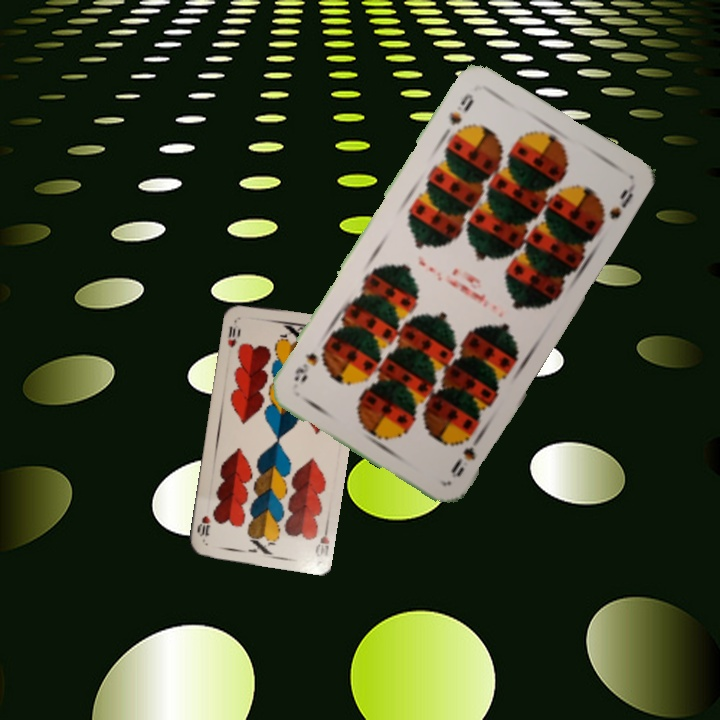H10: (311, 520, 332, 559), (223, 315, 239, 350)
S9: (439, 89, 477, 141), (447, 429, 485, 480)
